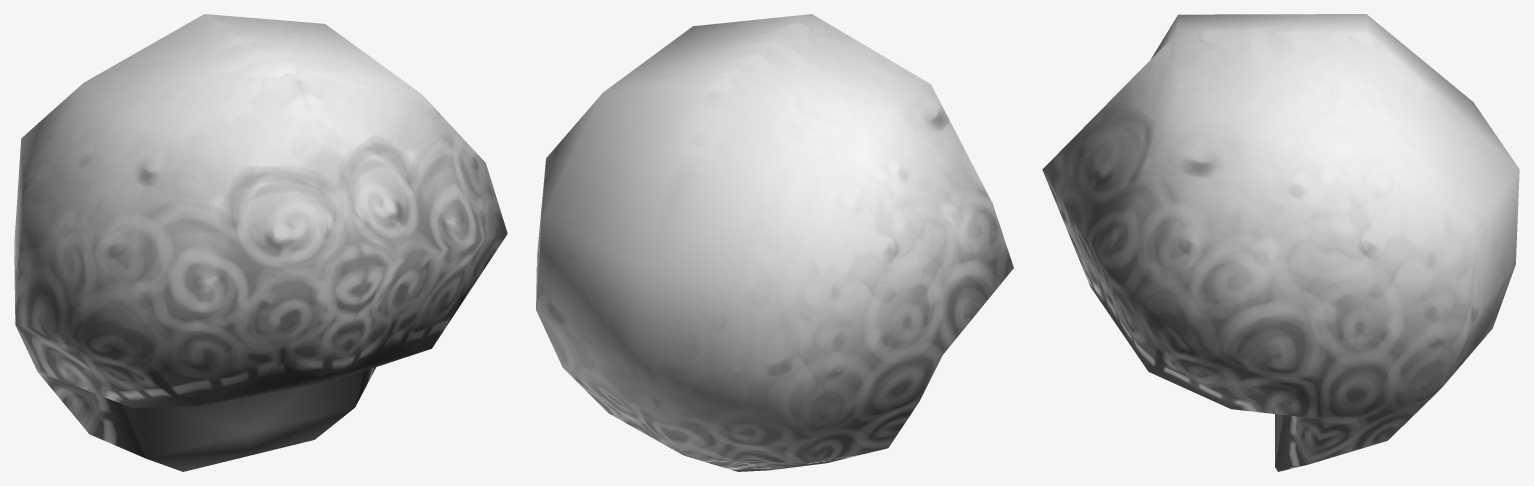
File: character_Head14.FBX
3 renders of one model, left to right at view 1: azimuth 30°, elevation 25°; view 2: azimuth 150°, elevation 25°; view 3: azimuth 270°, elevation 25°, orthographic. The views are drawn at different scales.
Visible parts, largest first — view 1: Sphere126; view 2: Sphere126; view 3: Sphere126.
Boxes of the visible parts, box(x1,y1,x2,y2) form: Sphere126: box(14, 14, 507, 471); Sphere126: box(536, 14, 1013, 471); Sphere126: box(1042, 14, 1519, 471).
Bounding box in the file's own units: 49.62 × 46.45 × 48.48.
